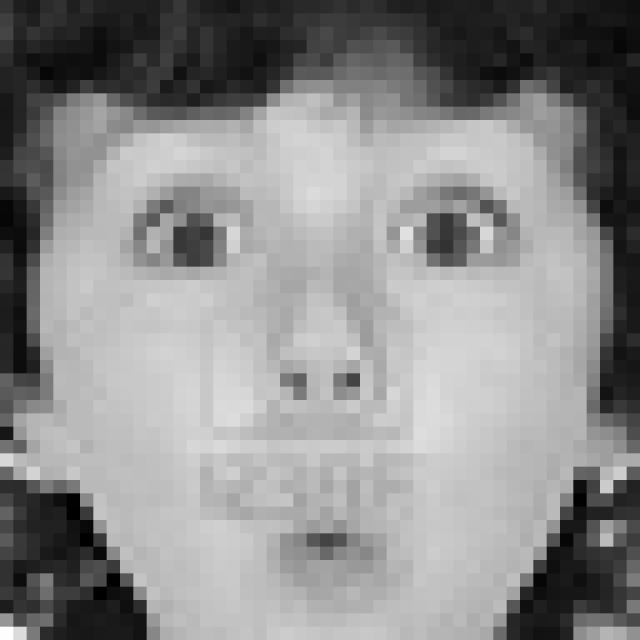surprise: (74, 154, 546, 607)
